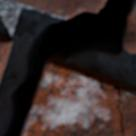brick: (22, 59, 135, 135), (0, 34, 12, 82)
broken_brick: (9, 0, 103, 18), (124, 1, 135, 55)
crack: (2, 0, 135, 135), (98, 80, 125, 135)
